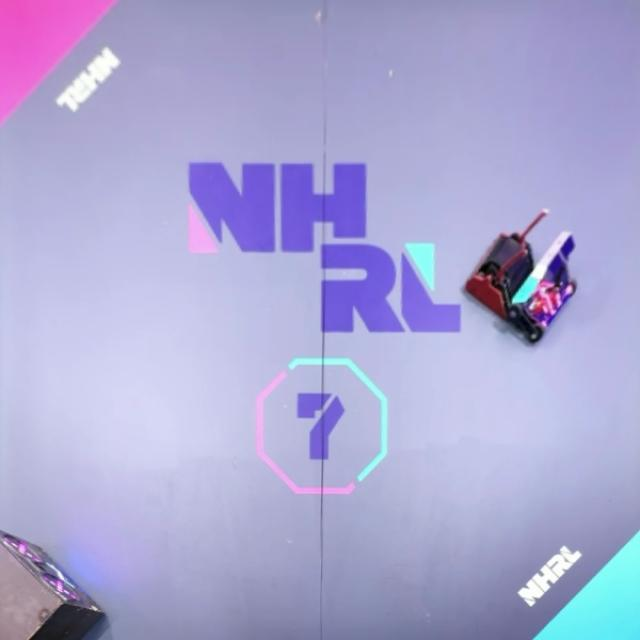housebot: (0, 527, 107, 640)
robot: (464, 207, 552, 320), (503, 230, 579, 345)
